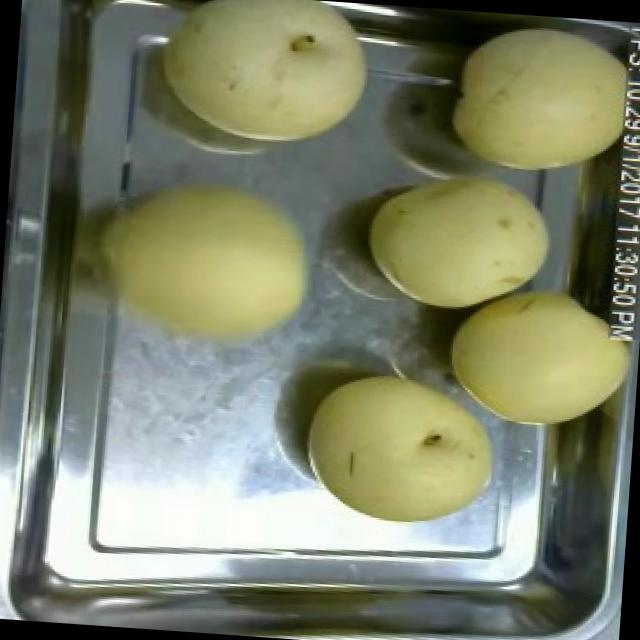Fruit: (92, 158, 328, 362), (145, 0, 389, 163), (294, 355, 508, 537), (353, 152, 572, 326), (437, 8, 640, 190), (437, 263, 639, 442)
